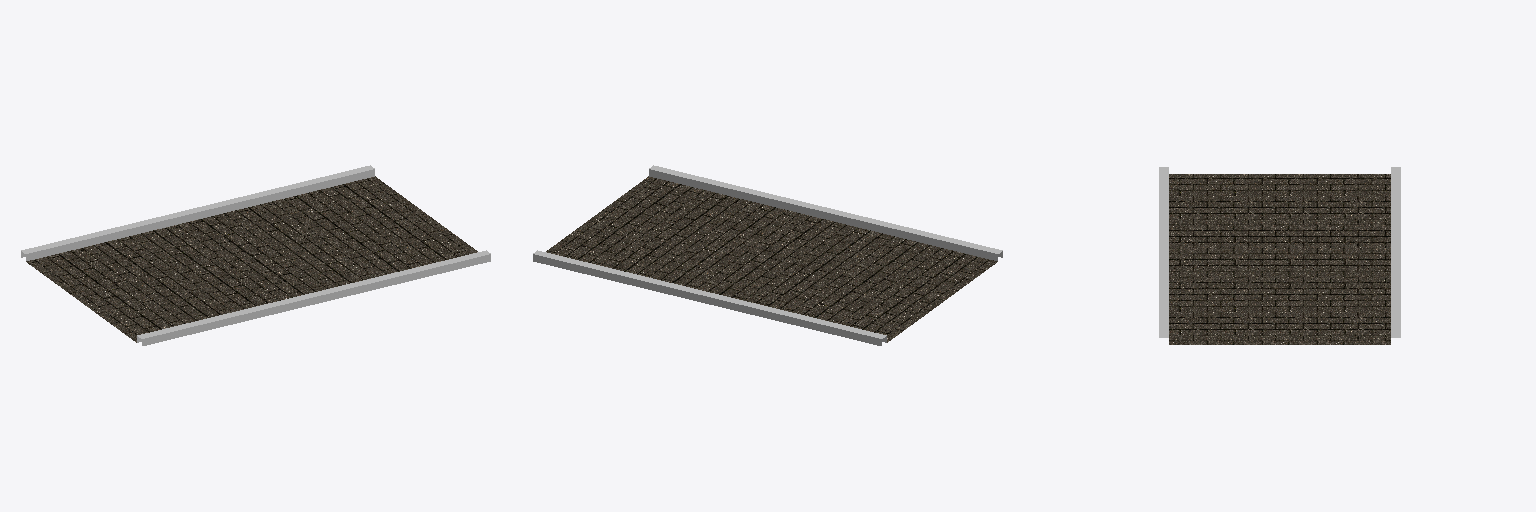
The picture shows the model from 3 angles: view 1: azimuth 30°, elevation 25°; view 2: azimuth 150°, elevation 25°; view 3: azimuth 270°, elevation 25°; orthographic projection.
Visible parts, largest first — view 1: Road_10M_Plane.001; view 2: Road_10M_Plane.001; view 3: Road_10M_Plane.001.
Part boxes in pixels (x1,y1,x2,y2): Road_10M_Plane.001: (21, 165, 490, 345); Road_10M_Plane.001: (533, 165, 1002, 345); Road_10M_Plane.001: (1159, 167, 1400, 344).
Bounding box in the file's own units: 10 × 0.2 × 6.
Materials: 2 (1 with a texture image).